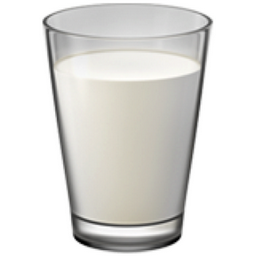glass of milk: (57, 34, 191, 224)
